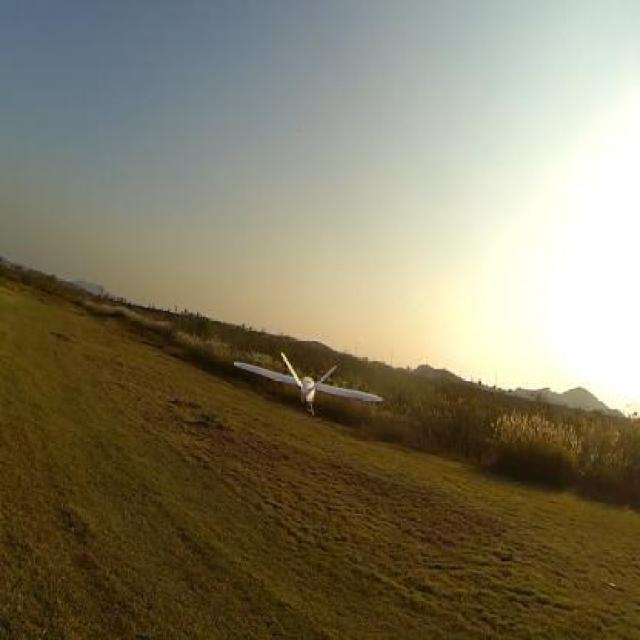iha: (225, 364, 389, 402)
